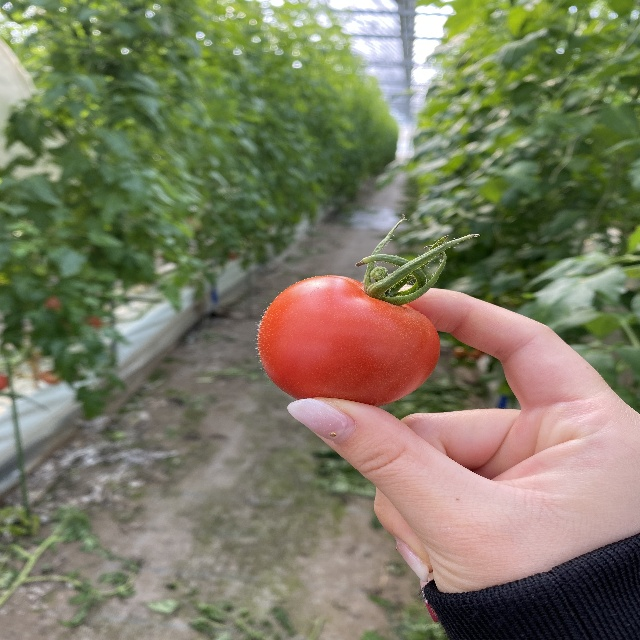l_fully_ripened: (258, 275, 441, 407)
